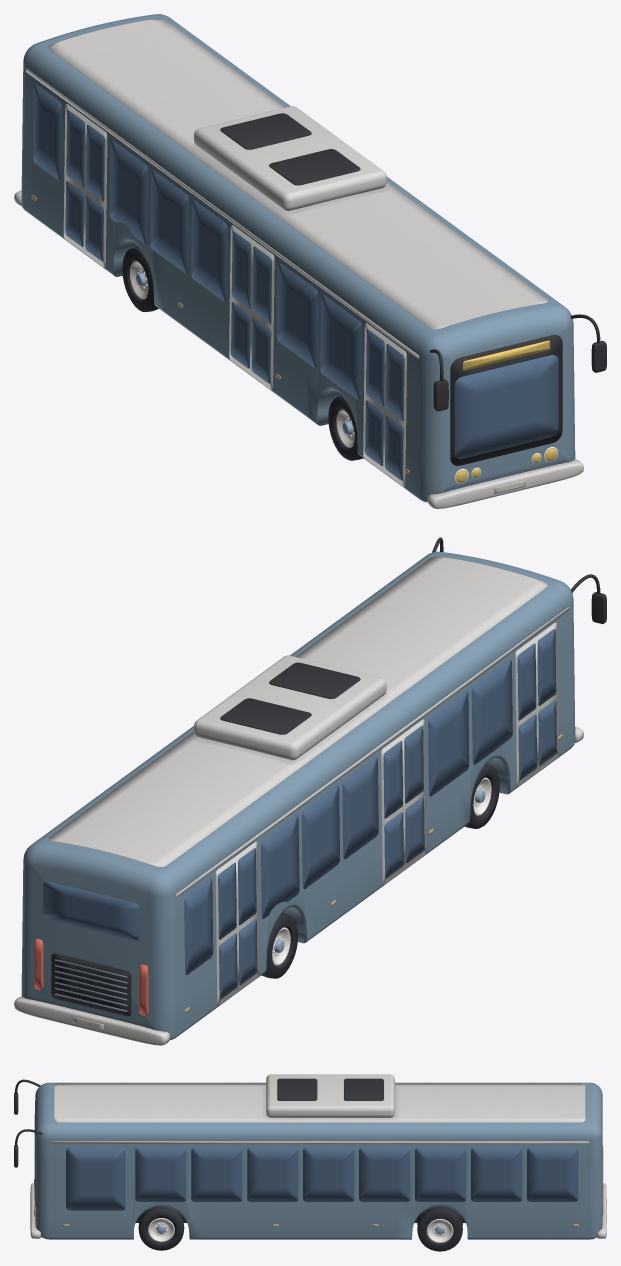
The model's file is city_bus.glb.
3 renders of one model, top to bottom at view 1: azimuth 30°, elevation 25°; view 2: azimuth 150°, elevation 25°; view 3: azimuth 270°, elevation 25°, orthographic. The views are drawn at different scales.
Visible parts, largest first — view 1: city-bus_body, city-bus_windows, city-bus_door_windows, city-bus_wheel_rr, city-bus_wheel_fr, city-bus_destination_display; view 2: city-bus_body, city-bus_windows, city-bus_door_windows, city-bus_wheel_rr, city-bus_wheel_fr, city-bus_taillights; view 3: city-bus_body, city-bus_windows, city-bus_wheel_rl, city-bus_wheel_fl.
Part boxes in pixels (bbox=[...]): city-bus_body: bbox=[14, 14, 606, 508]; city-bus_windows: bbox=[33, 84, 558, 459]; city-bus_door_windows: bbox=[65, 110, 404, 480]; city-bus_wheel_rr: bbox=[122, 246, 158, 311]; city-bus_wheel_fr: bbox=[328, 395, 363, 460]; city-bus_destination_display: bbox=[463, 340, 549, 370]; city-bus_body: bbox=[14, 537, 606, 1045]; city-bus_windows: bbox=[43, 659, 512, 974]; city-bus_door_windows: bbox=[218, 628, 556, 999]; city-bus_wheel_rr: bbox=[261, 912, 297, 978]; city-bus_wheel_fr: bbox=[465, 763, 499, 828]; city-bus_taillights: bbox=[34, 939, 148, 1015]; city-bus_body: bbox=[14, 1074, 606, 1239]; city-bus_windows: bbox=[34, 1114, 578, 1210]; city-bus_wheel_rl: bbox=[417, 1206, 462, 1251]; city-bus_wheel_fl: bbox=[138, 1206, 184, 1250].
Bounding box in the file's own units: 2.84 × 3.21 × 12.45.
Materials: 19 (1 with a texture image).
